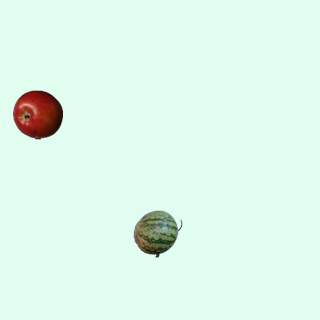Apple Braeburn: (12, 89, 62, 139)
Watermelon: (132, 208, 182, 258)
